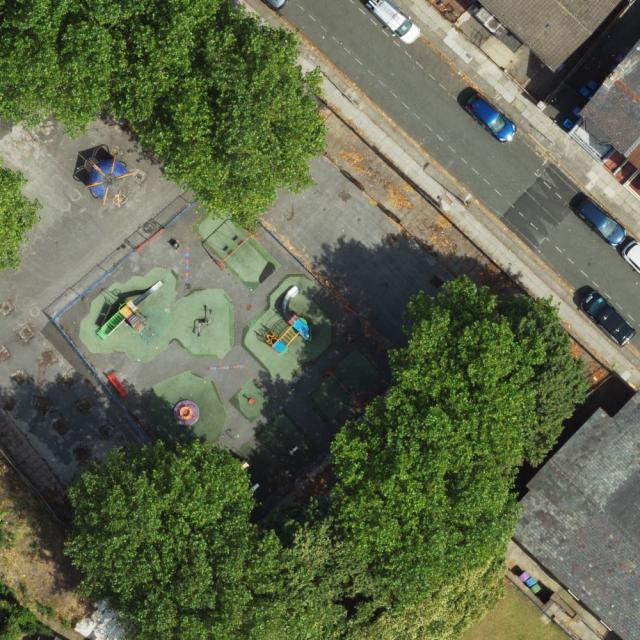roof: (512, 389, 640, 640), (481, 1, 623, 75), (581, 41, 640, 173)
